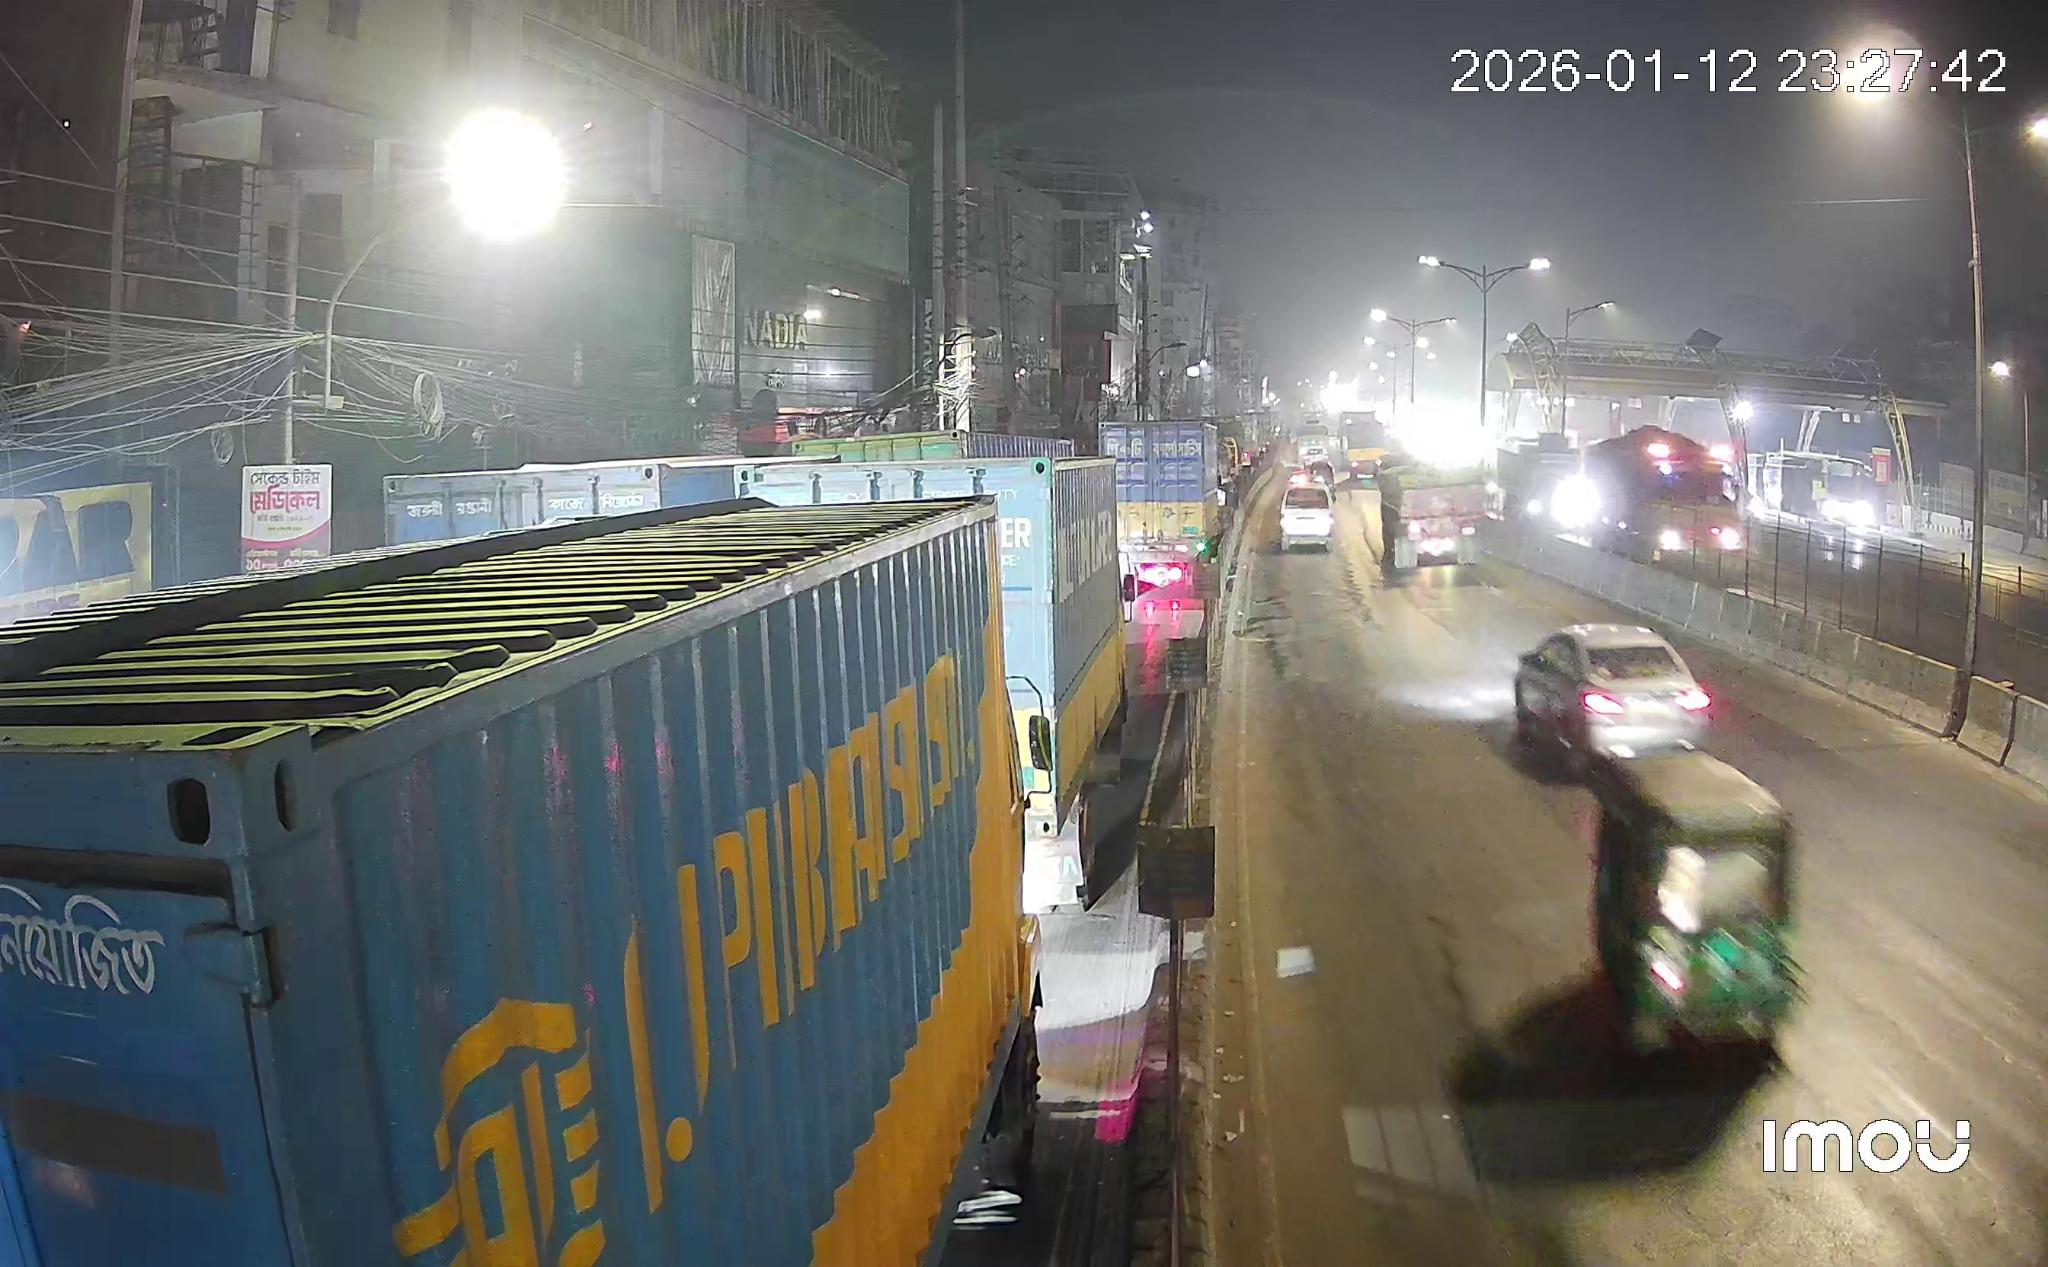CNG-Tempo: (1589, 748, 1799, 1048)
Private-Sedan Car: (1514, 625, 1712, 774), (1280, 489, 1333, 552)
Truck: (0, 495, 1040, 1267), (749, 455, 1125, 910), (1549, 426, 1745, 562), (1100, 420, 1227, 613), (1378, 459, 1491, 574)
